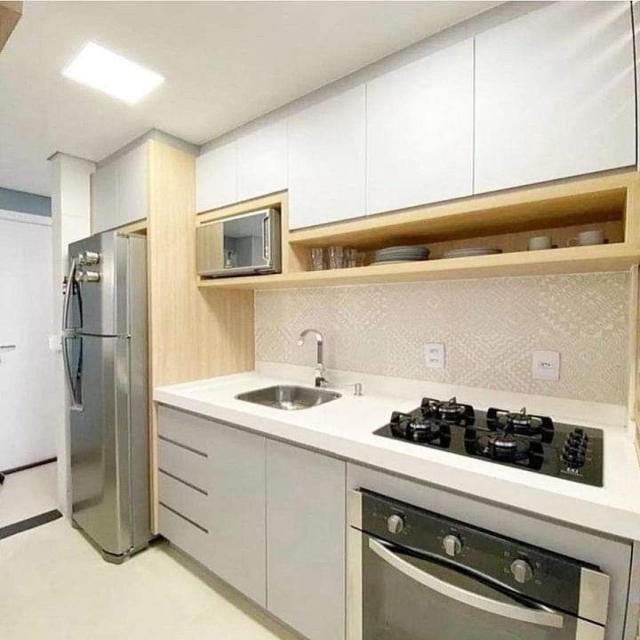obstacle: (59, 226, 154, 563)
